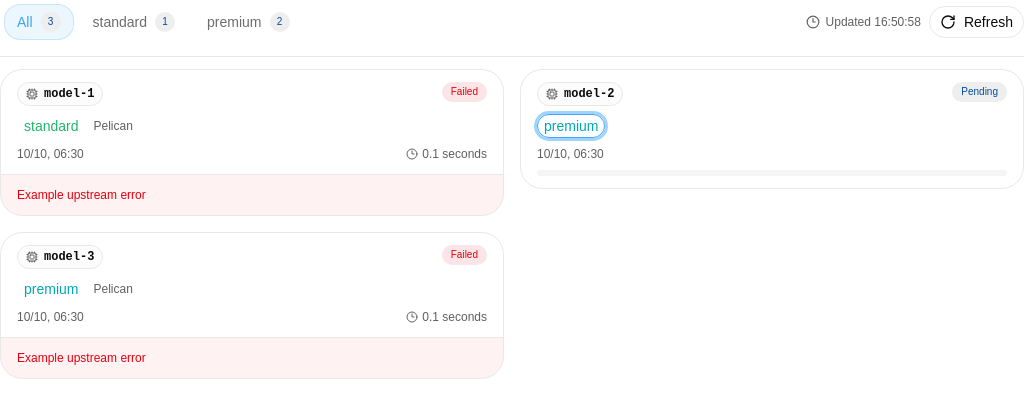
Scenario: filters by a card group with the keyboard and returns to all groups
The width and height of the screenshot is (1036, 396).
Press Enter
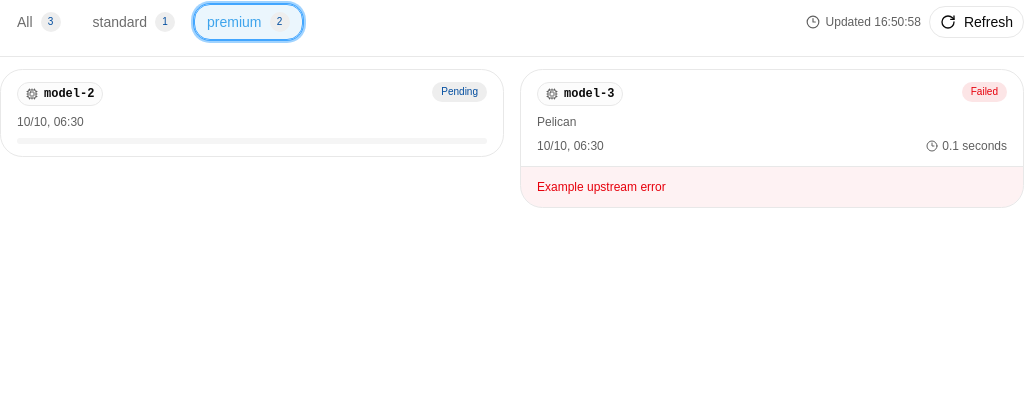
Expected: the element named "Model: model-2" is shown, [17,82,103,106]
Expected: the field labelled "Model: model-1" is gone
Expected: the number of elements named "Model: " is 2, [17,82,103,106]; [537,82,623,106]
Click the tab "All 3" at (39, 22), box [4,4,74,40]
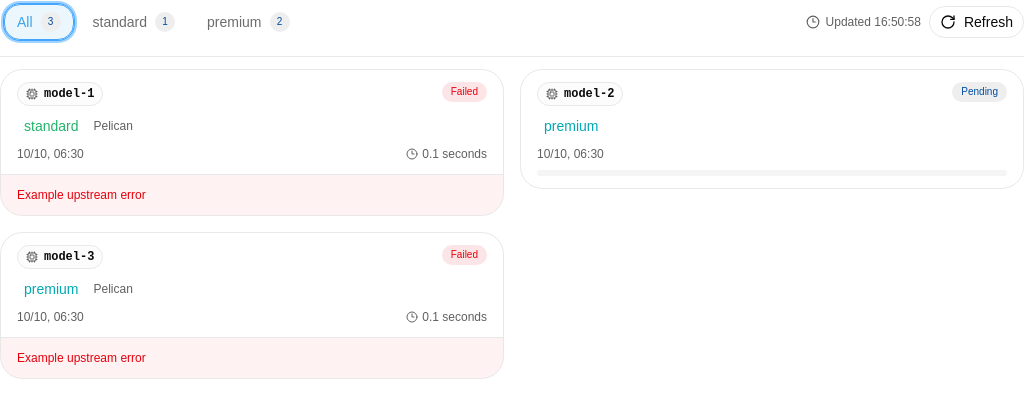
Expected: the number of elements named "Model: " is 3, [17,82,103,106]; [537,82,623,106]; [17,245,103,269]
